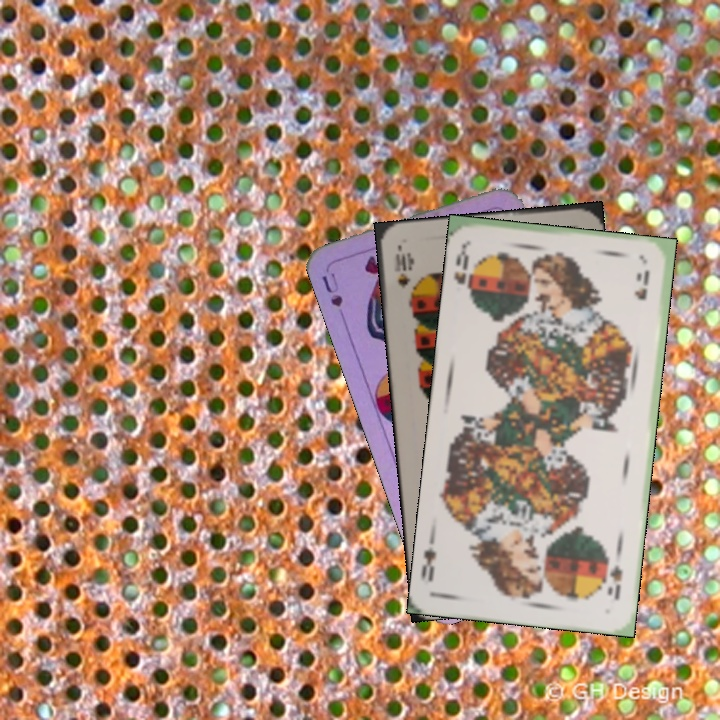S10: (390, 245, 413, 291)
SO: (450, 241, 478, 301), (603, 561, 625, 602)
SU: (318, 268, 346, 310)
